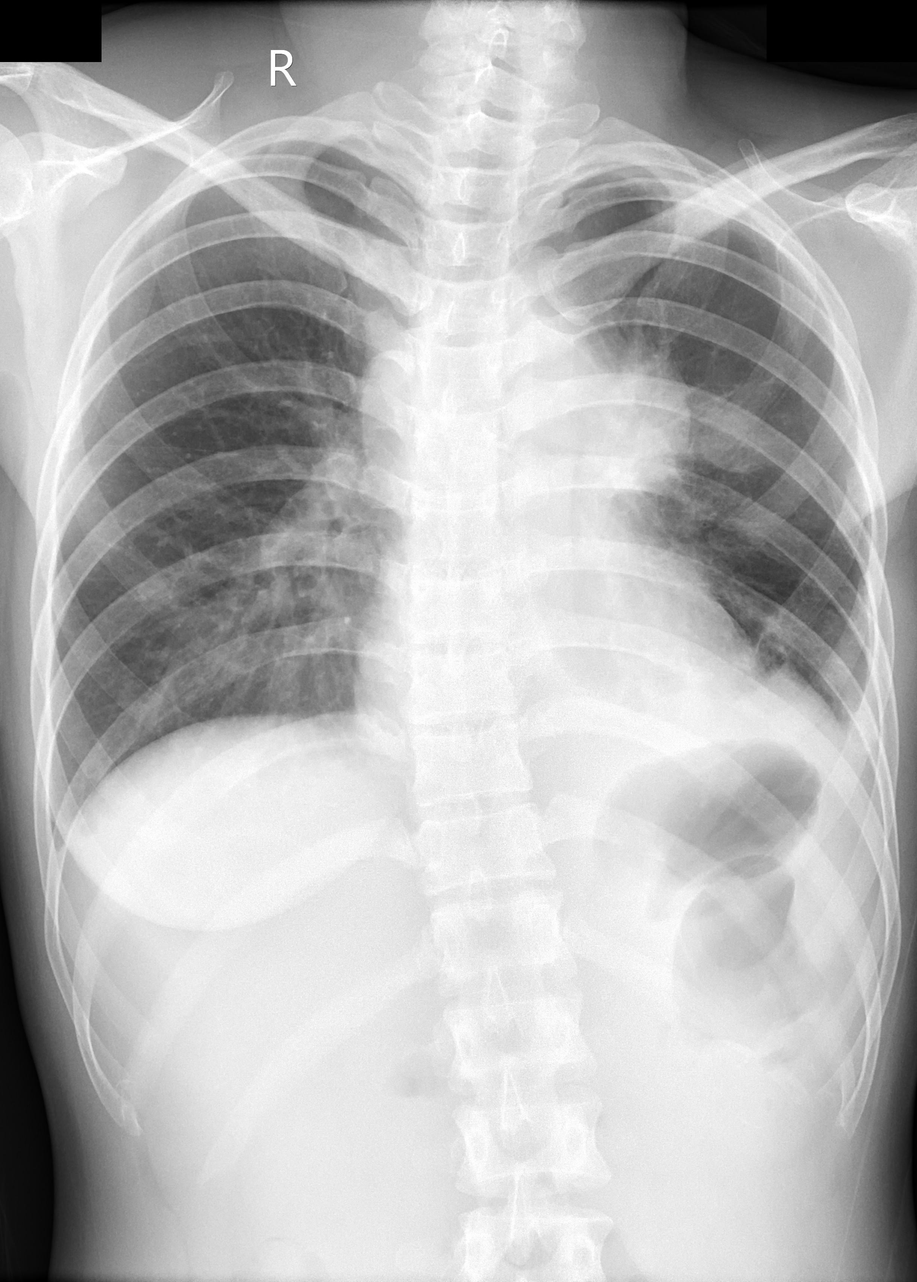Aortic enlargement: (482, 295, 609, 427)
Pleural thickening: (845, 664, 888, 778)
